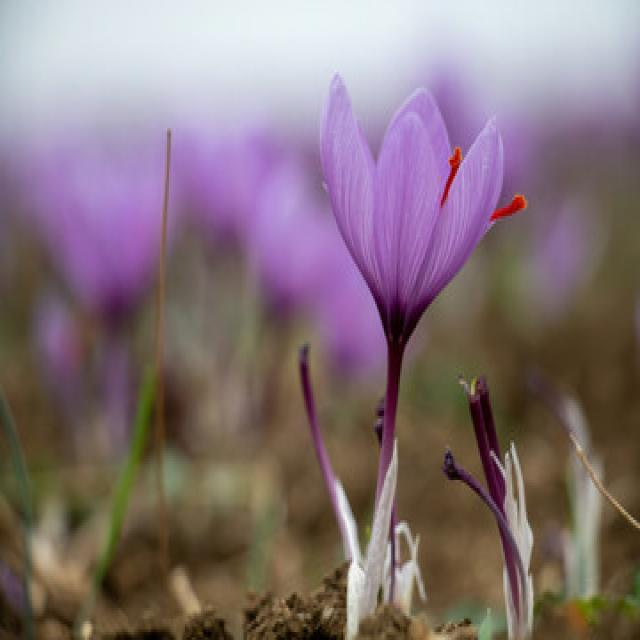saffron open: (321, 75, 502, 500)
